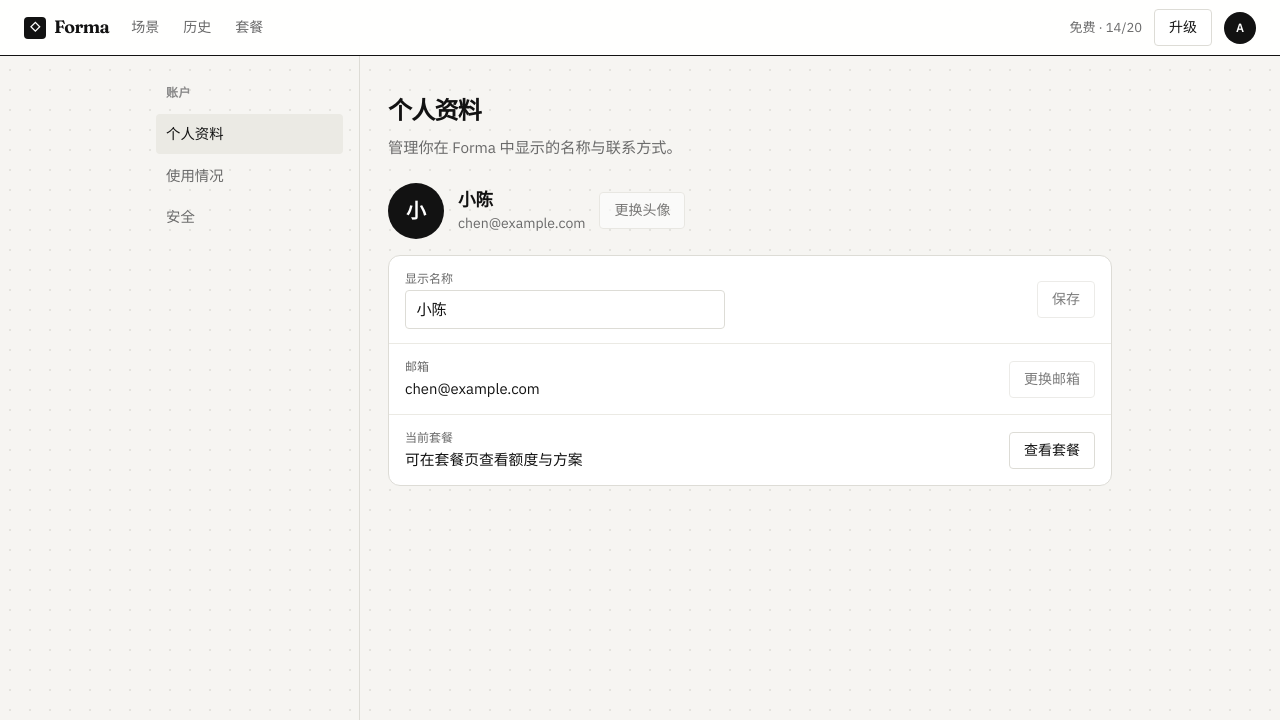
Test: AccountSettings › saves display name via PATCH username
The image size is (1280, 720).
Replace the text in the field with id "display-name" with "新名字". click: (565, 309)
box: left=405, top=290, right=725, bottom=329
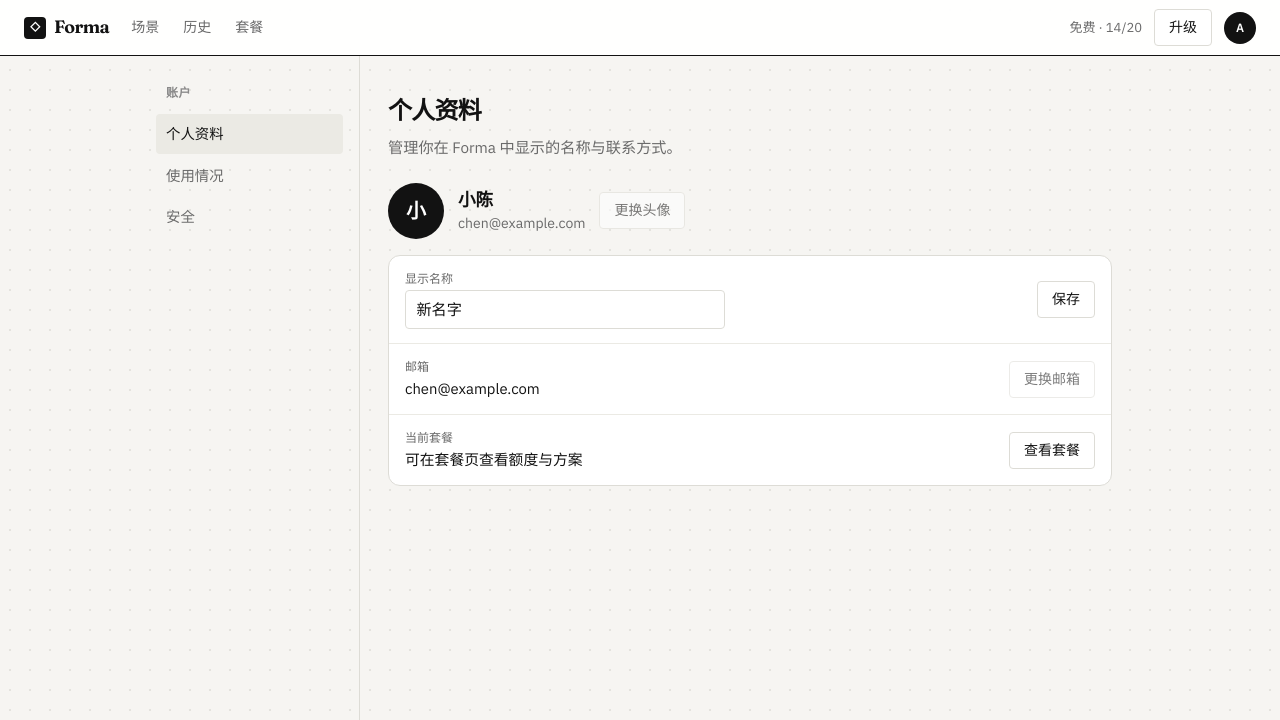
Click the button "保存". click: (1066, 299)
box: left=1037, top=281, right=1095, bottom=318
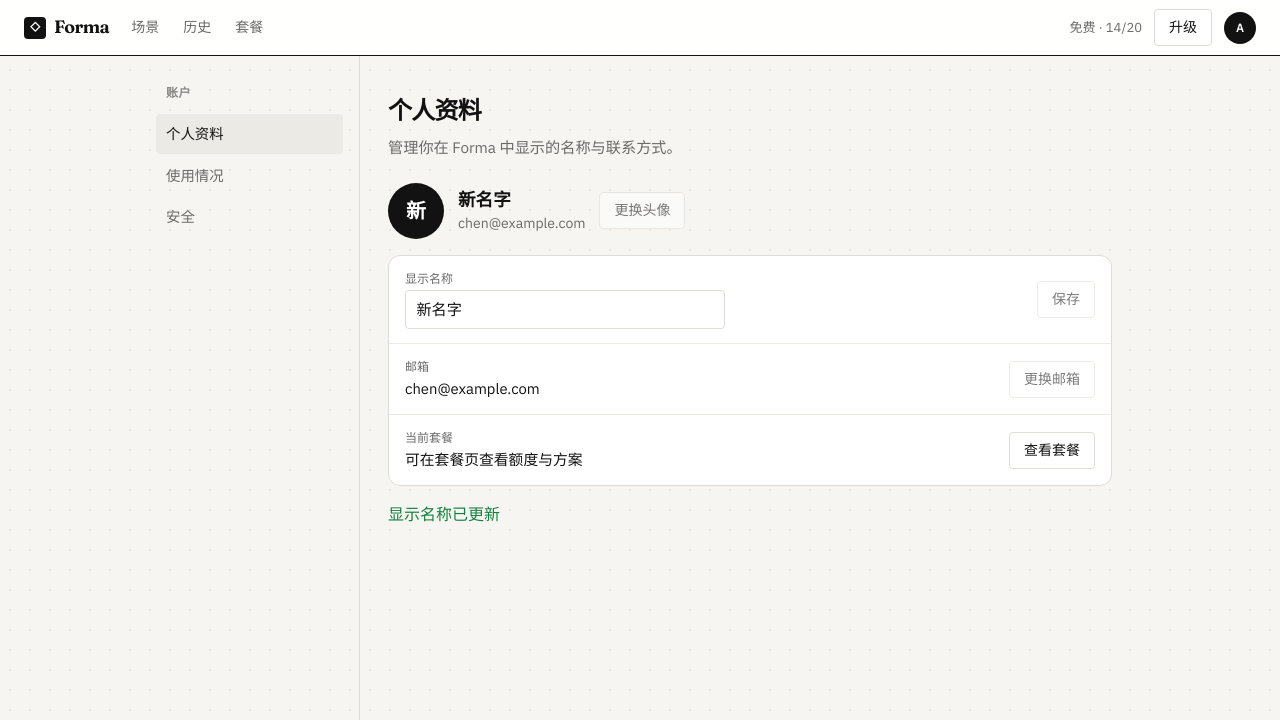
Result: the text "显示名称已更新" is shown at left=388, top=504, right=500, bottom=524
Result: the text "新名字" is shown at left=458, top=188, right=511, bottom=211
